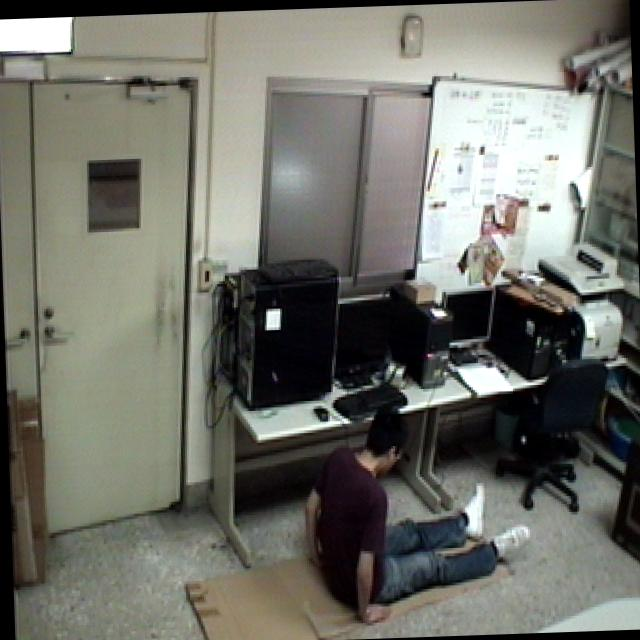sit: (296, 394, 538, 632)
